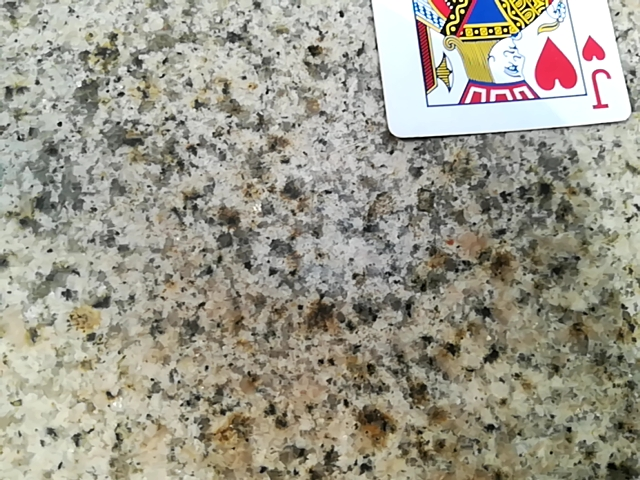hx j: (344, 0, 615, 155)
